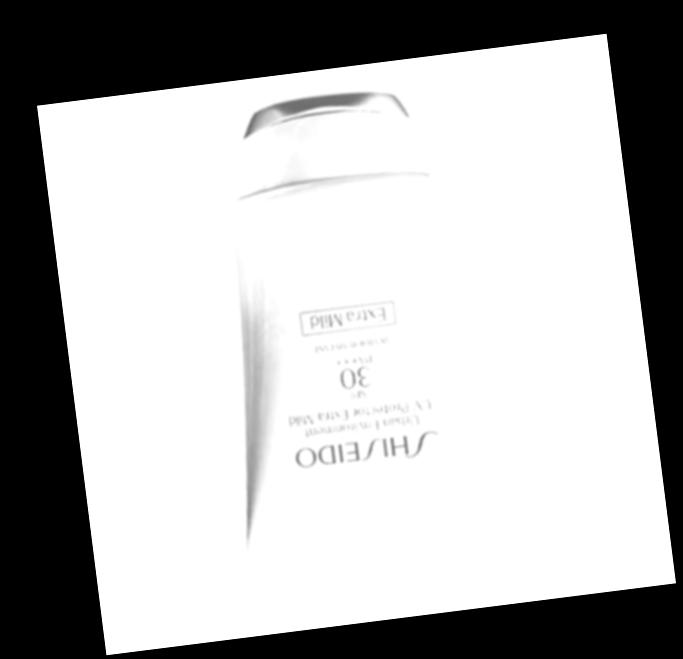cosmetic: (187, 74, 510, 573)
